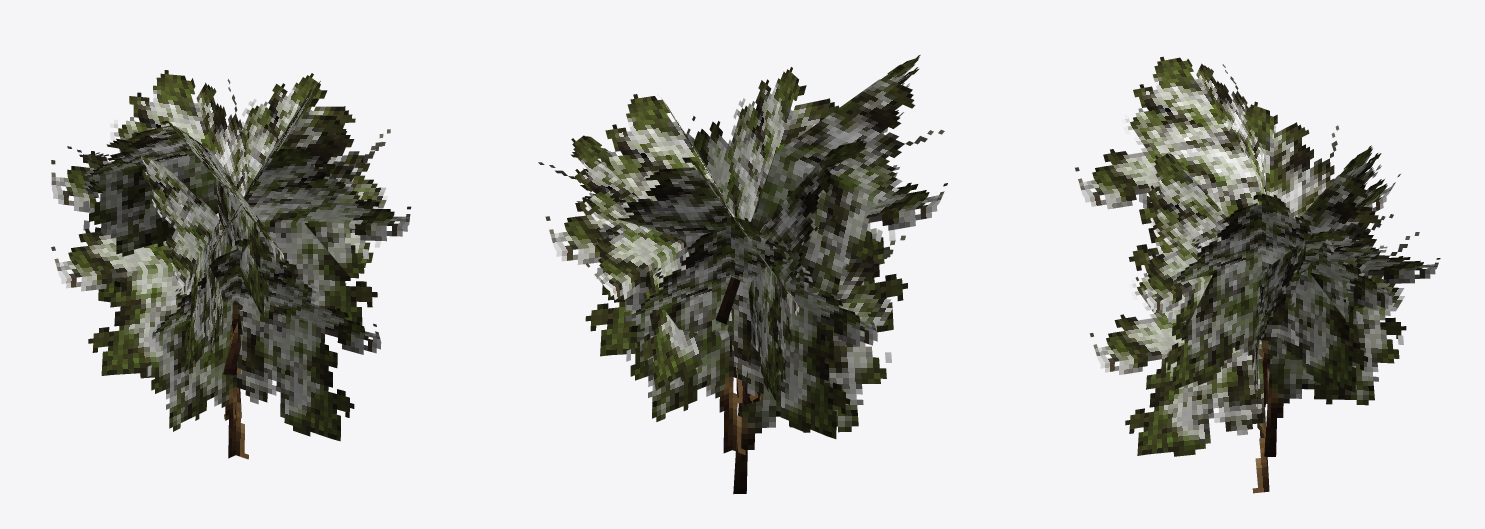
File: sbushsno_0.obj
3 renders of one model, left to right at view 1: azimuth 30°, elevation 25°; view 2: azimuth 150°, elevation 25°; view 3: azimuth 270°, elevation 25°, orthographic. The views are drawn at different scales.
Visible parts, largest first — view 1: sbushsno_0; view 2: sbushsno_0; view 3: sbushsno_0.
Boxes of the visible parts, x1,y1,x2,y2 form: sbushsno_0: [51, 70, 411, 459]; sbushsno_0: [538, 55, 947, 494]; sbushsno_0: [1075, 56, 1440, 493].
Bounding box in the file's own units: 2.88 × 2.53 × 2.5.
